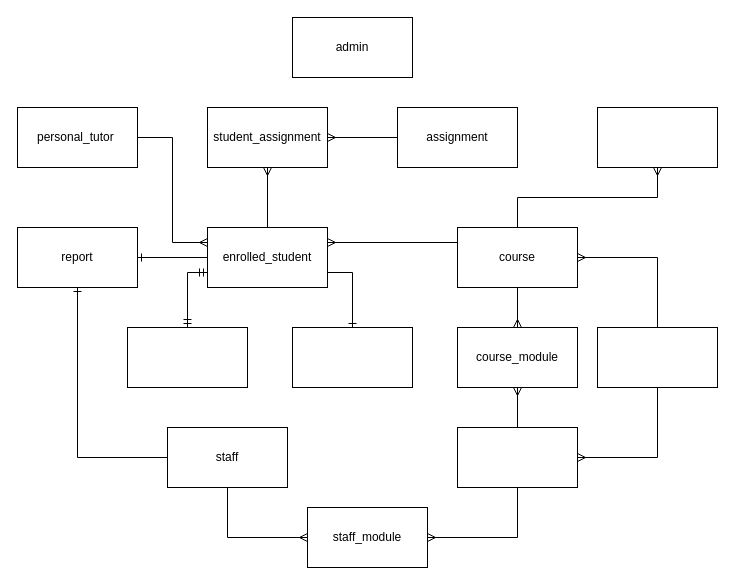
Some shapes in this 735 by 585 pixel diagram are drawn without their labels. The box of each missing label's shape, as (x1, y1, x2, y2) in pixels:
attendance: (126, 326, 248, 388)
diary: (292, 326, 412, 388)
module: (456, 426, 578, 488)
student_request: (596, 106, 718, 168)
timetable: (596, 326, 718, 388)
